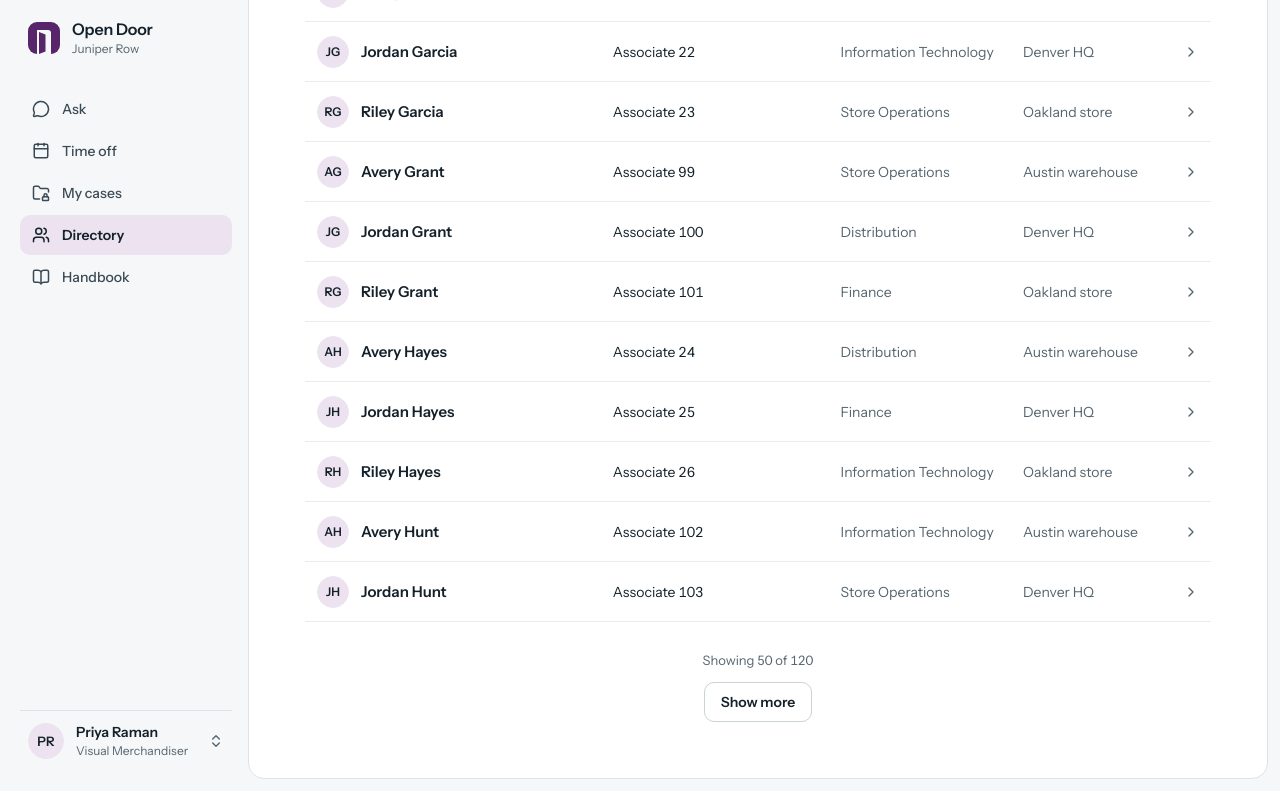
Test: the filters › starts again at page one when a filter changes, instead of adding to the old pages
(page scrolled)
Step 1. Click the button "Show more" → (758, 702), box [704,682,812,722]
(page scrolled)
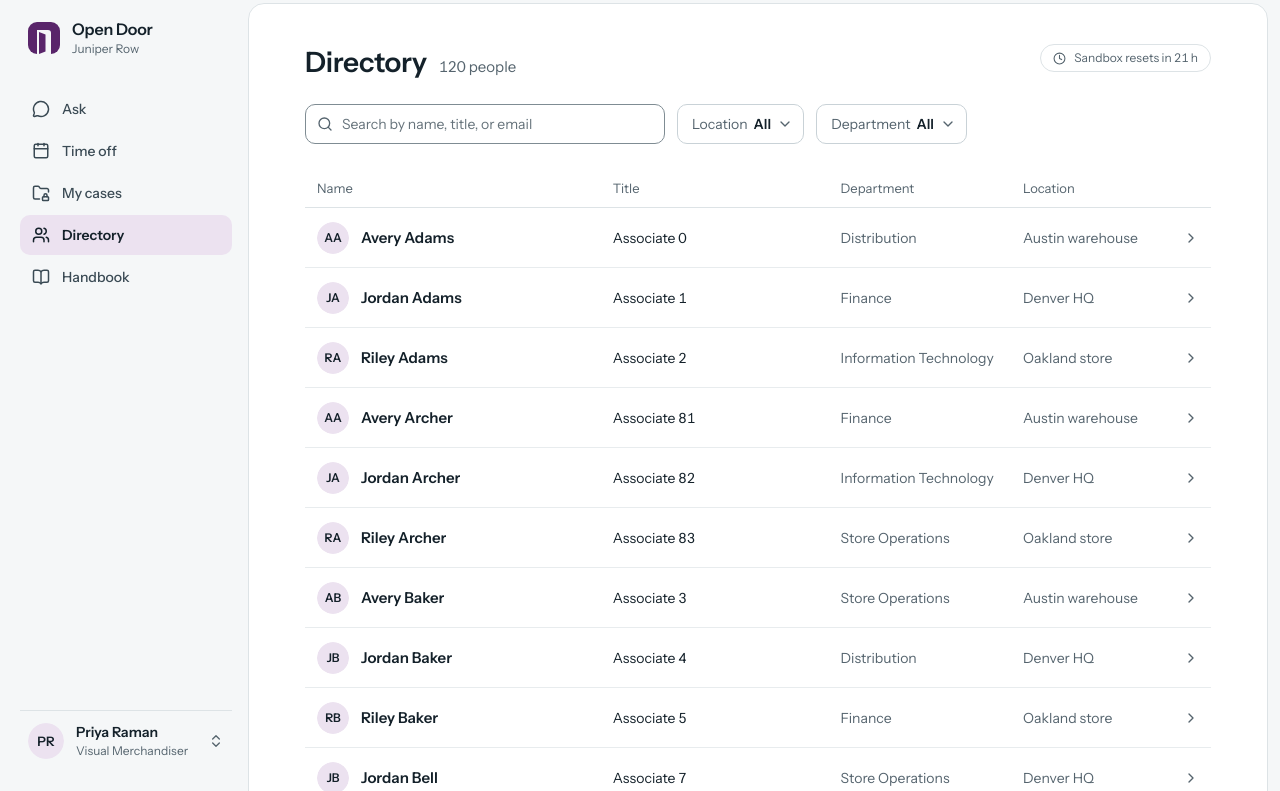
Result: the number of list items is 100
Step 2. Click the dropdown labelled "Location" → (741, 124), box [677,104,804,144]
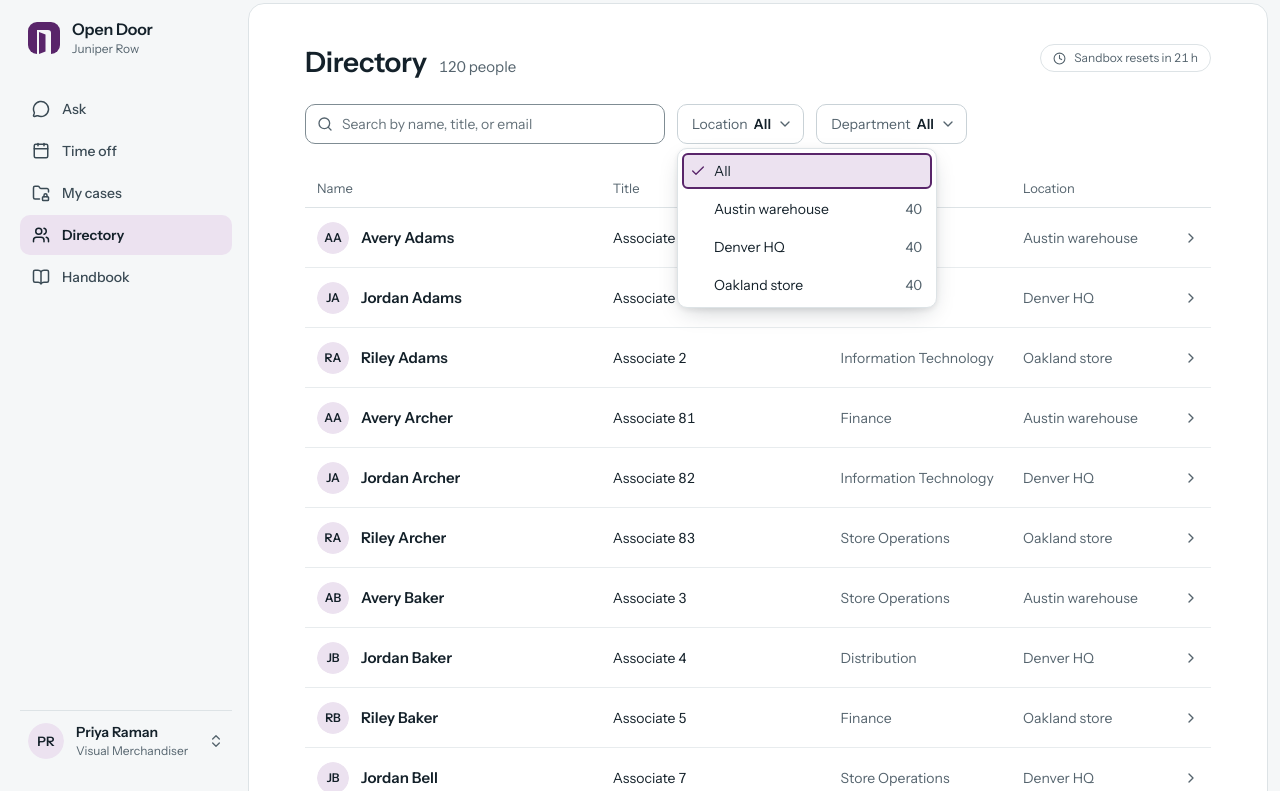
Step 3. Click the option "Denver HQ 40" → (749, 247), box [714,238,922,256]
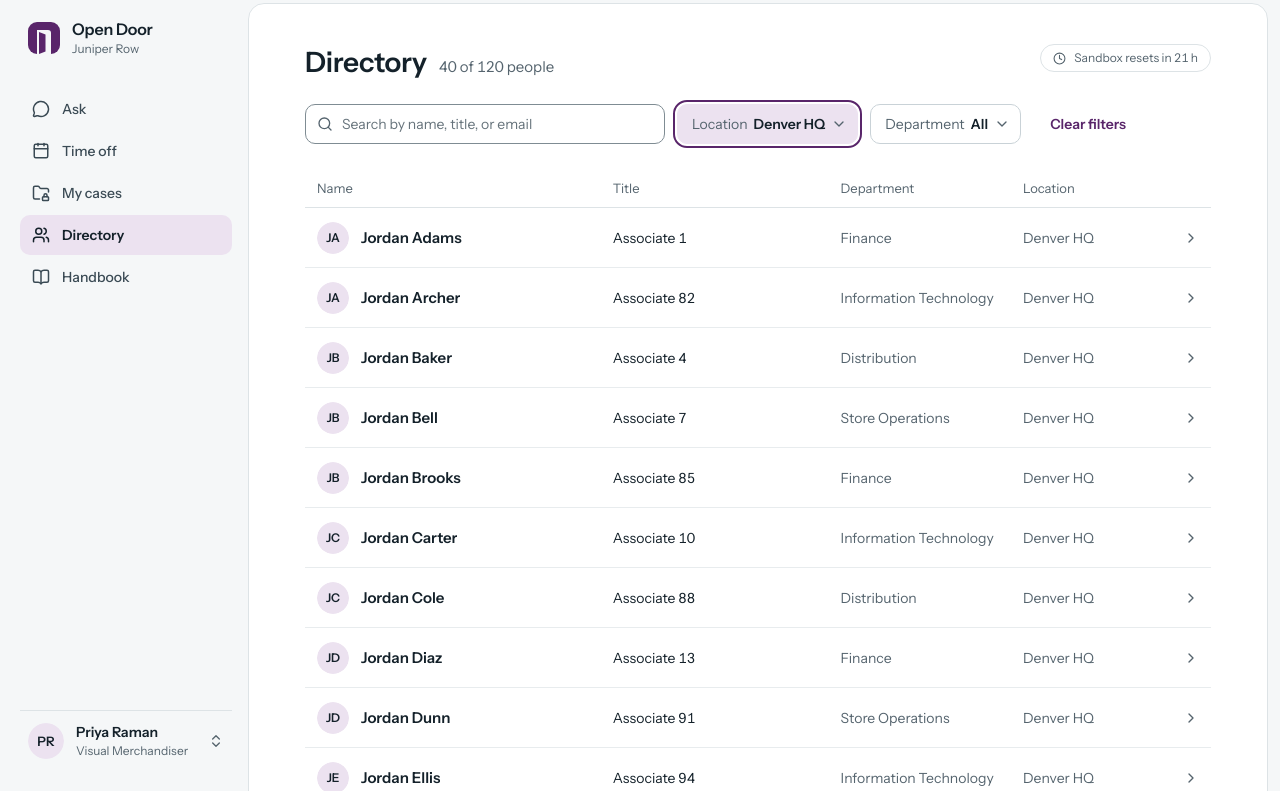
Result: the number of list items is 40
